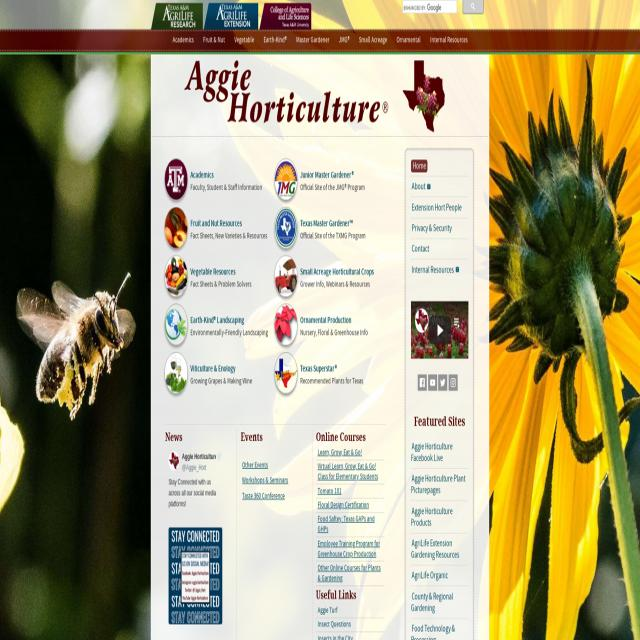button: (184, 61, 456, 133), (169, 526, 222, 625), (411, 301, 468, 358), (204, 2, 256, 30), (259, 2, 310, 30), (151, 2, 201, 30), (164, 158, 188, 201), (274, 158, 298, 201), (164, 255, 188, 298), (274, 255, 298, 298), (164, 207, 188, 249), (274, 207, 298, 249), (164, 304, 188, 346), (274, 304, 298, 346), (164, 352, 188, 394), (274, 352, 298, 394), (429, 318, 452, 345), (463, 0, 484, 14), (438, 374, 448, 390), (448, 374, 458, 390), (418, 374, 427, 390), (428, 374, 437, 390)
field: (404, 2, 455, 12)
